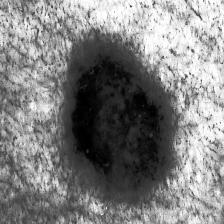Benign Marking or Mole: (63, 42, 172, 194)
